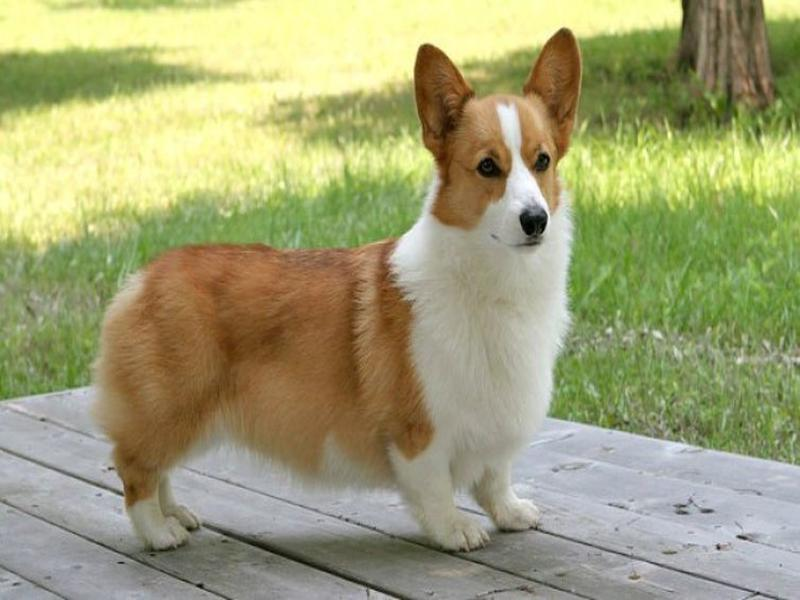corgi: (411, 24, 592, 257)
